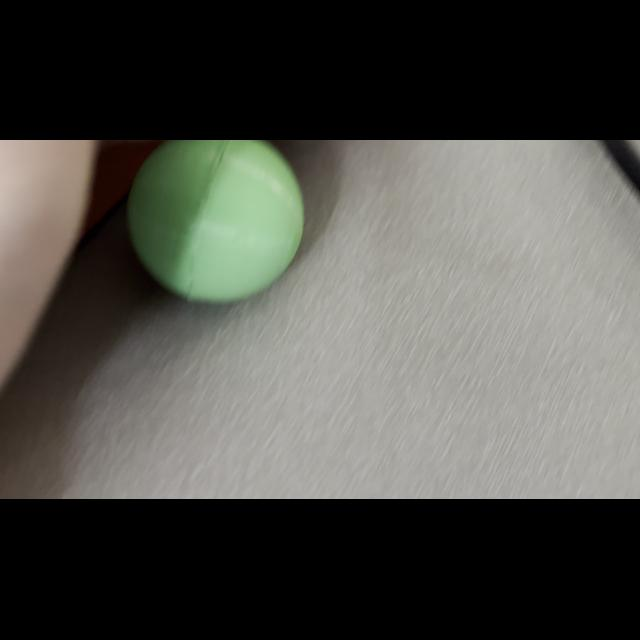objects: (124, 141, 308, 311)
